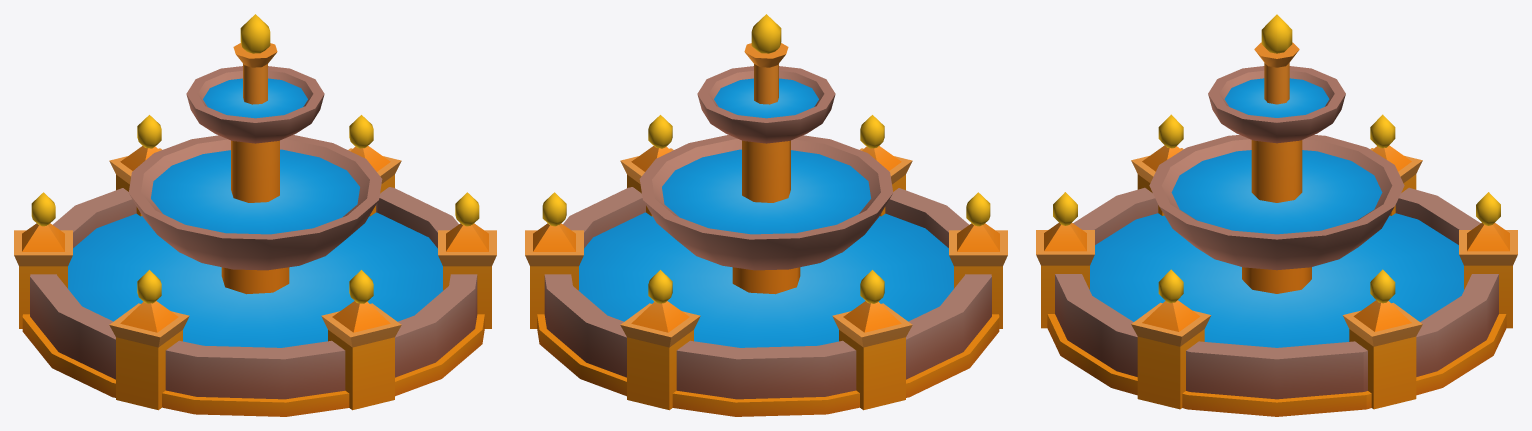
The model's file is Fountain_03.glb.
The picture shows the model from 3 angles, left to right: view 1: azimuth 30°, elevation 25°; view 2: azimuth 150°, elevation 25°; view 3: azimuth 270°, elevation 25°; orthographic projection.
Parts seen in each view (by area): view 1: Fountain_03; view 2: Fountain_03; view 3: Fountain_03.
Boxes of the visible parts, bbox=[...] form: Fountain_03: bbox=[14, 14, 496, 416]; Fountain_03: bbox=[525, 14, 1007, 416]; Fountain_03: bbox=[1036, 14, 1517, 416].
Bounding box in the file's own units: 5.89 × 4.23 × 6.05.
Materials: 2 (2 with a texture image).
